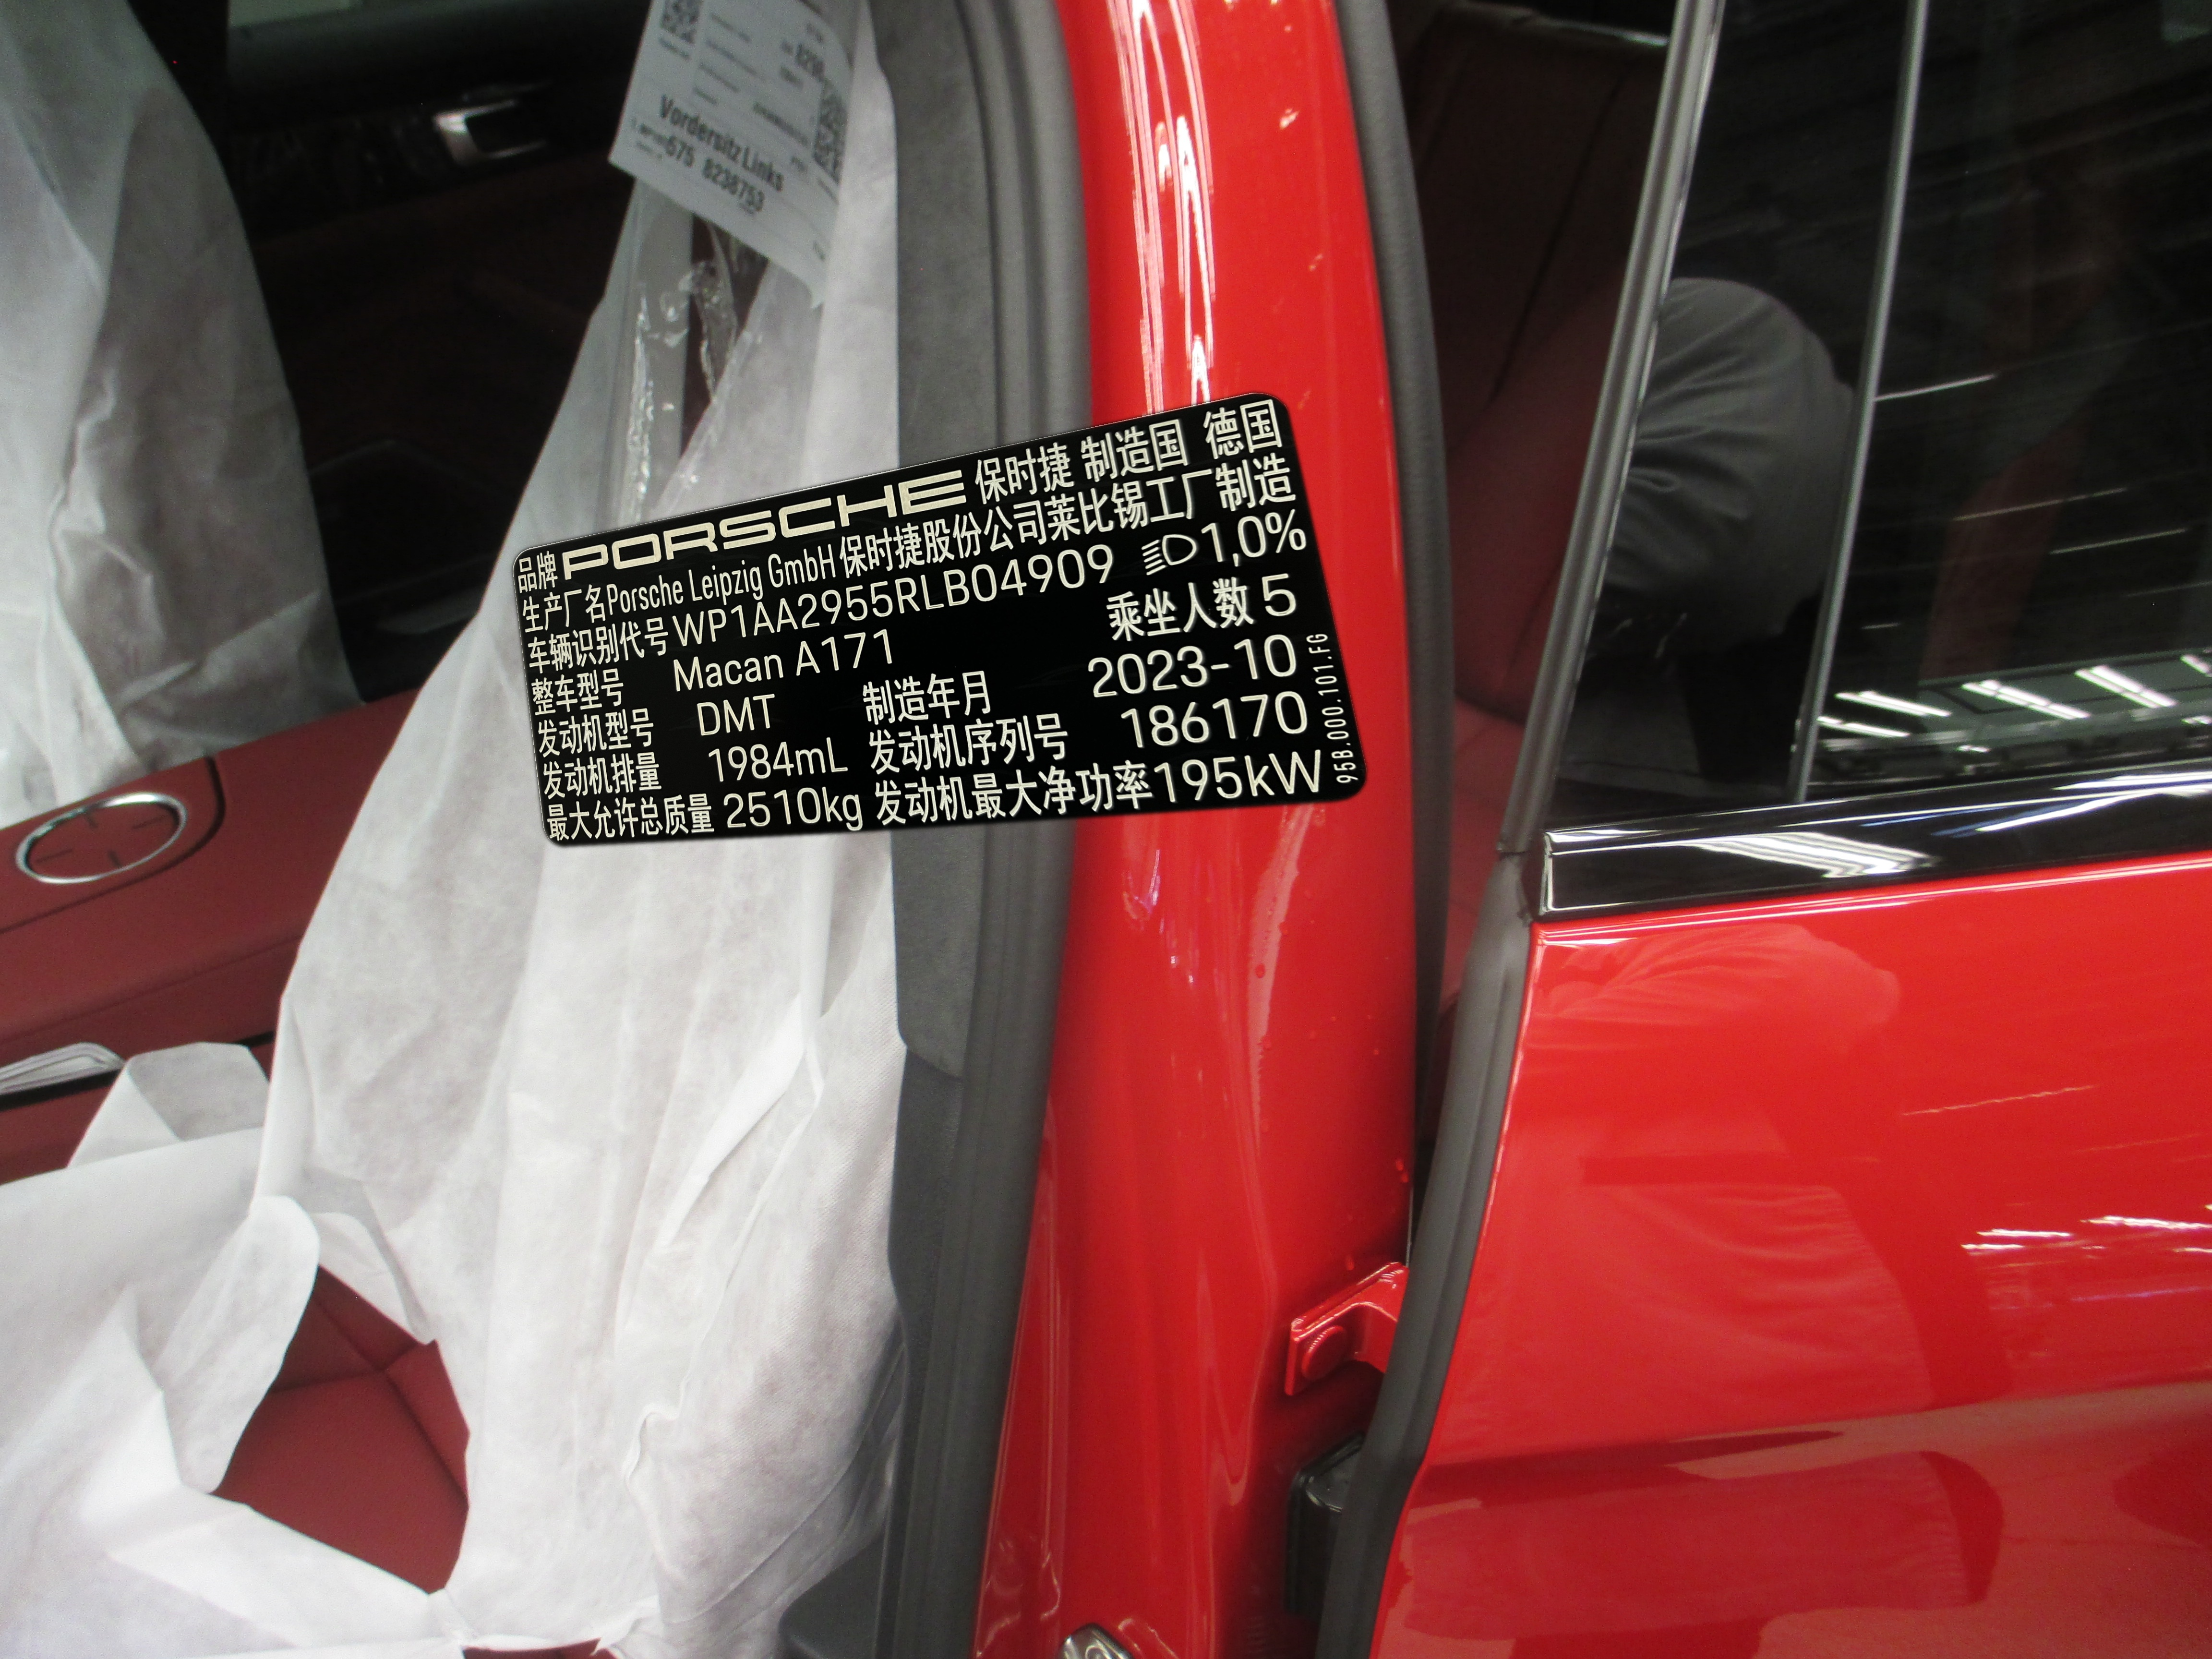Typlabel-China: (512, 392, 1366, 847)
